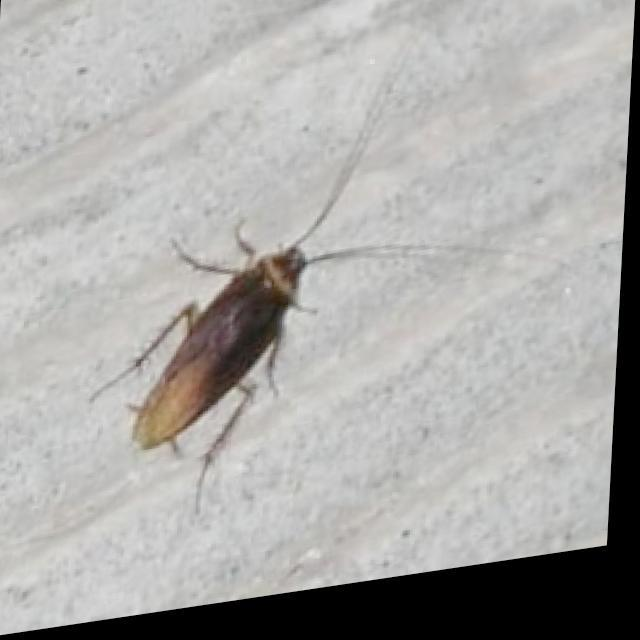cockroach: (130, 194, 357, 451)
